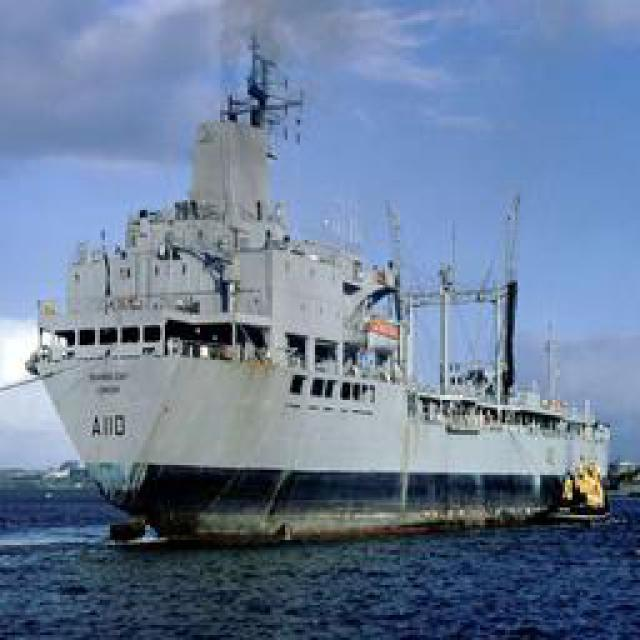Ship: (29, 56, 612, 536)
